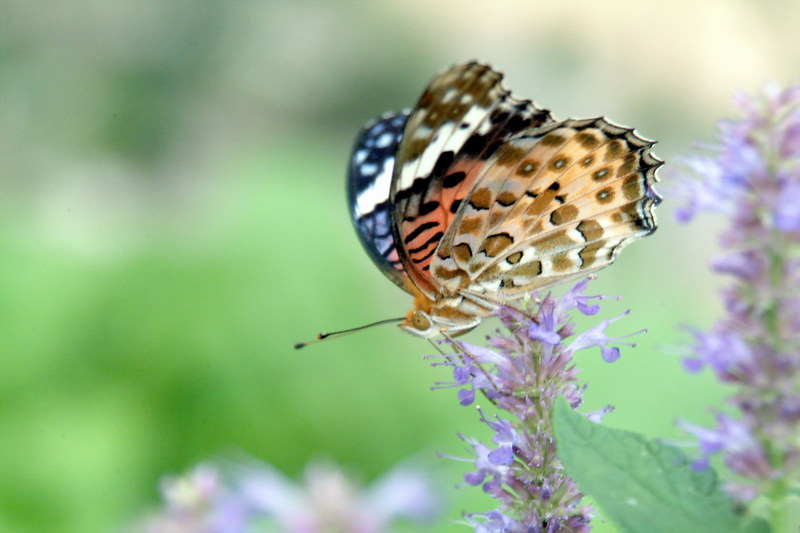Argyreus hyperbius: (289, 53, 664, 354)
butterfly: (291, 55, 666, 356)
